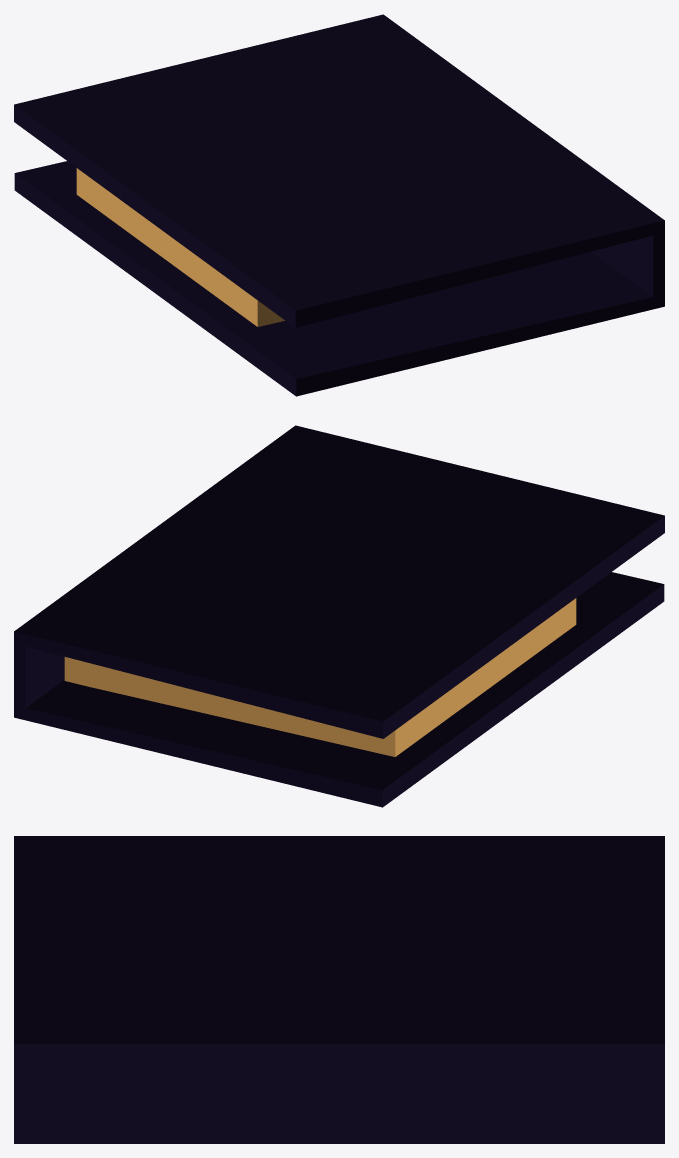
File: Book 13.fbx
3 views of the same model, one above another, from view 1: azimuth 30°, elevation 25°; view 2: azimuth 150°, elevation 25°; view 3: azimuth 270°, elevation 25° (orthographic). The views are drawn at different scales.
Visible parts, largest first — view 1: Node 0; view 2: Node 0; view 3: Node 0.
Part boxes in pixels (x1,y1,x2,y2): Node 0: [14, 14, 664, 396]; Node 0: [14, 425, 664, 807]; Node 0: [14, 836, 664, 1143].
Size of the model in its own units: 0.3048 by 0.0514 by 0.231.
